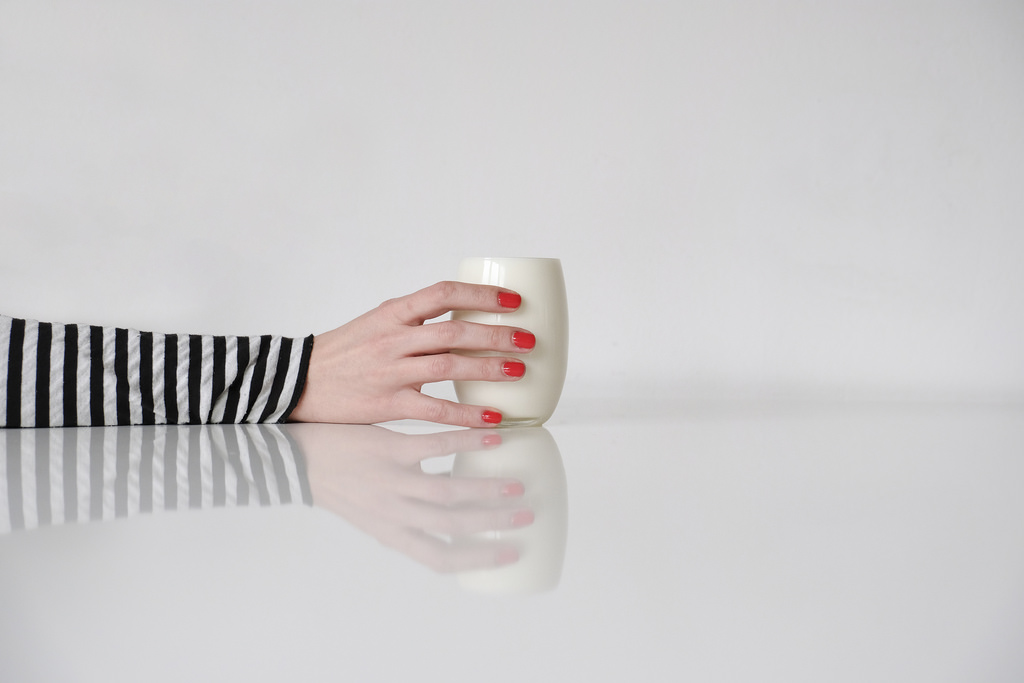glass of milk: (448, 254, 569, 436)
